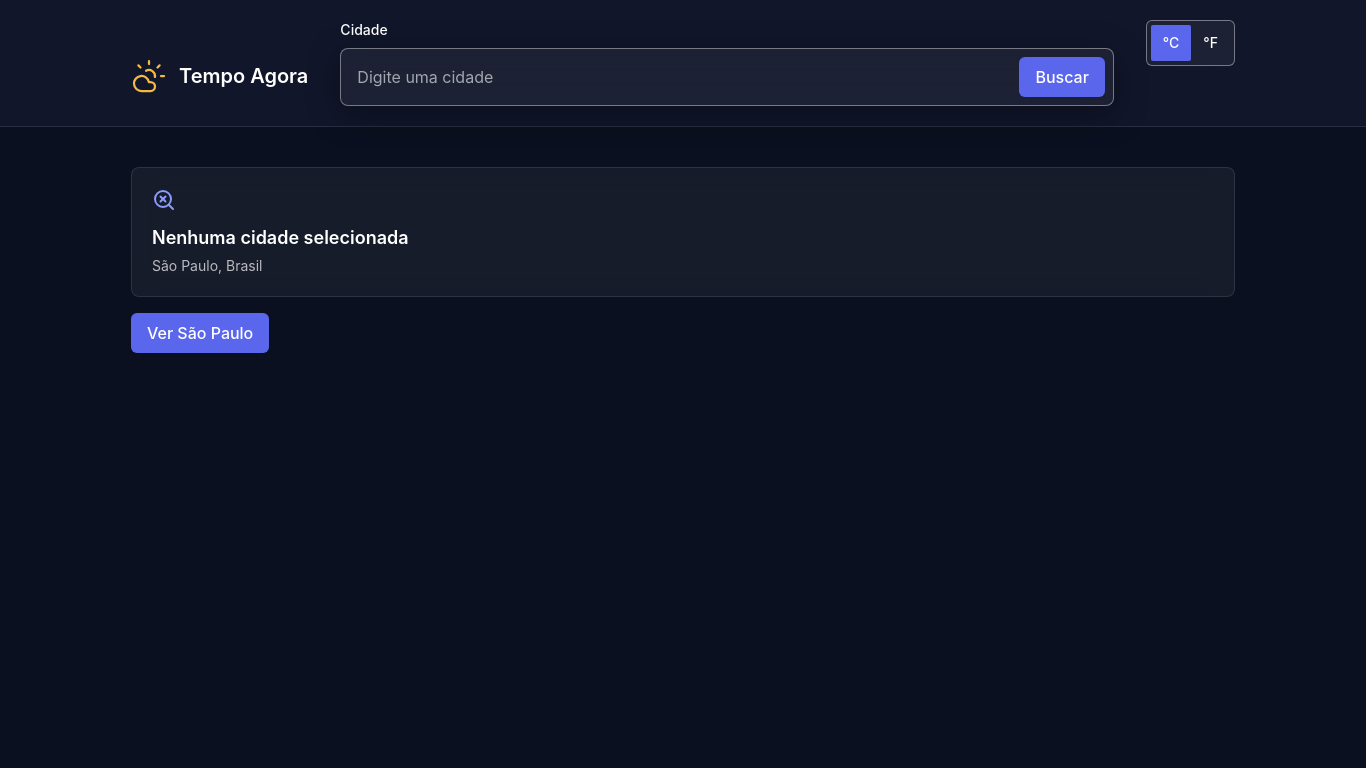
Test case: App › mostra erro e repete a mesma consulta no retry
This screenshot has width=1366, height=768.
Click the button "Ver São Paulo" at (200, 333), box [131,313,269,353]
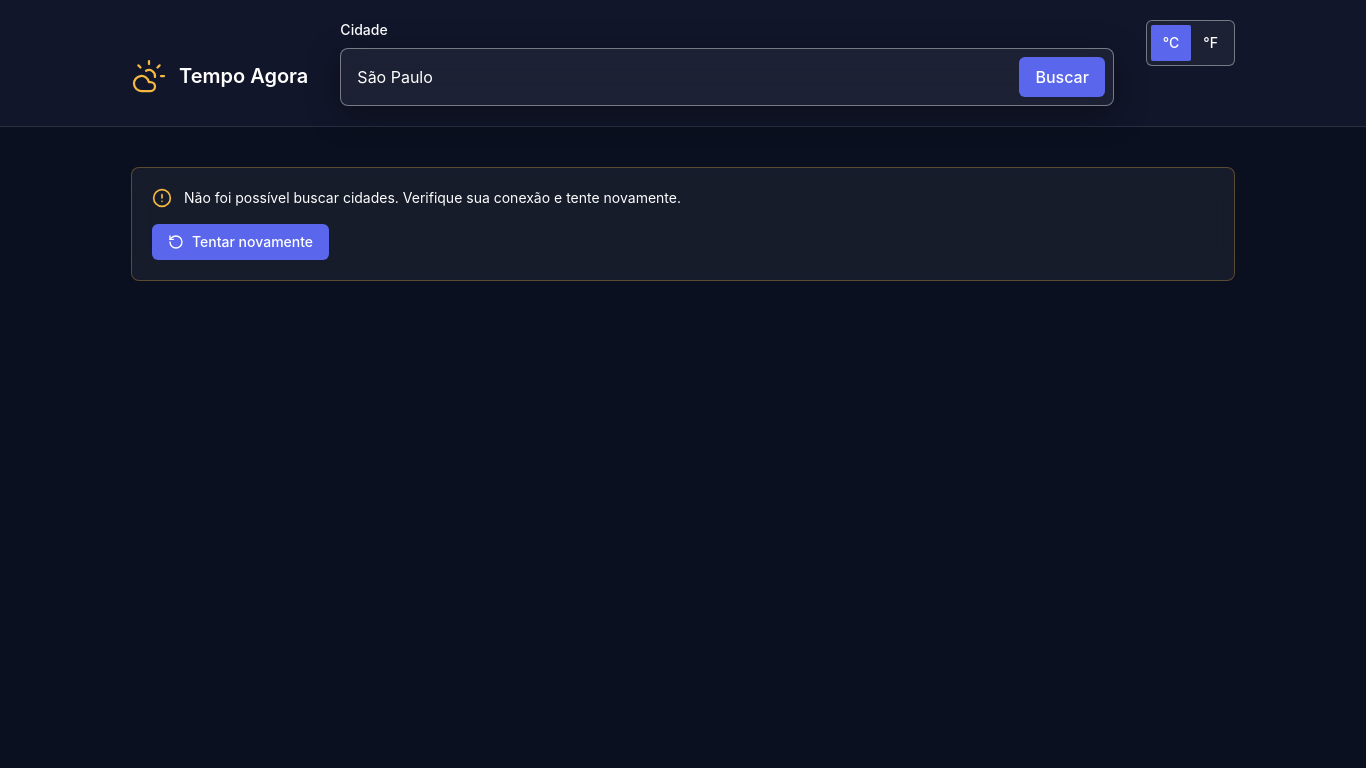
Result: the message shows "Não foi possível buscar cidades. Verifique sua conexão e tente novamente." at [184,189,681,206]
Click the button "Tentar novamente" at (241, 242), box [152,224,329,260]
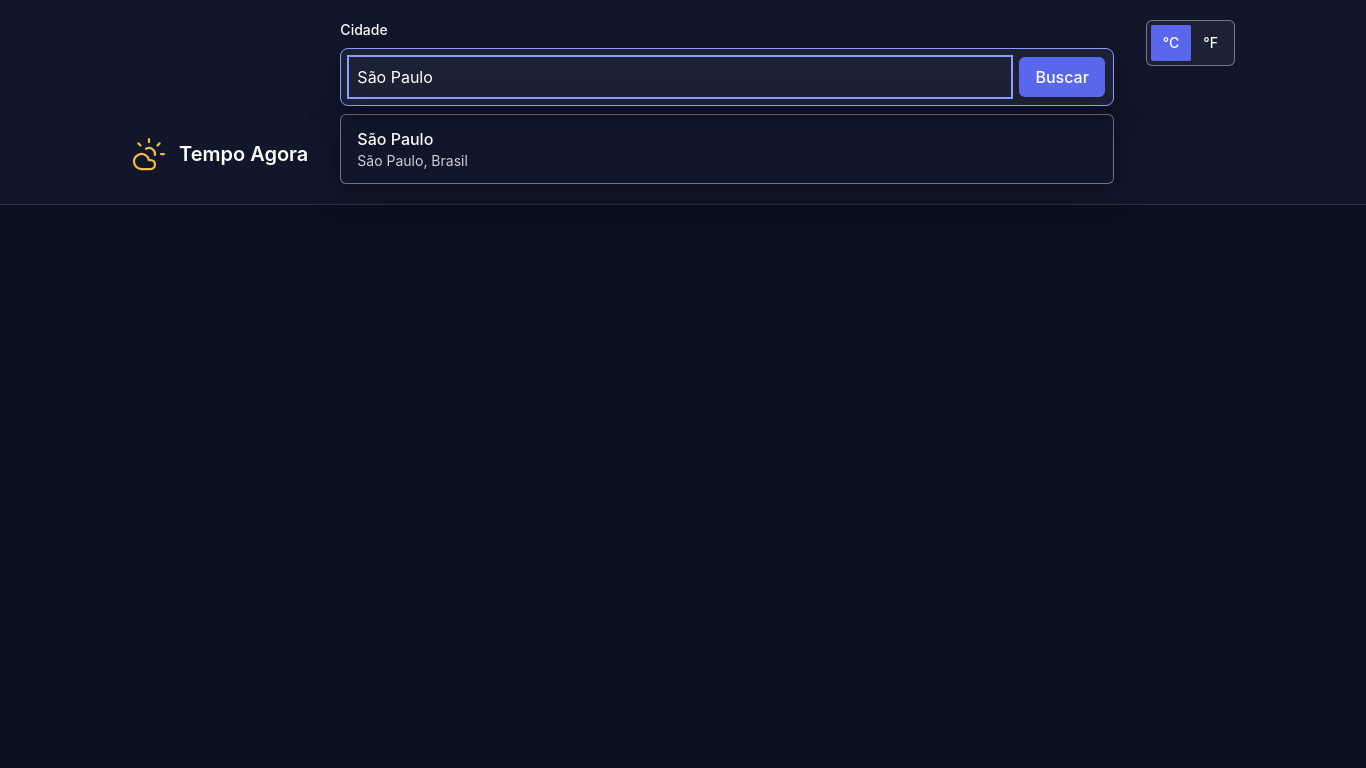
Click the option "São Paulo São Paulo, Brasil" at (395, 139), box [341,115,1113,183]
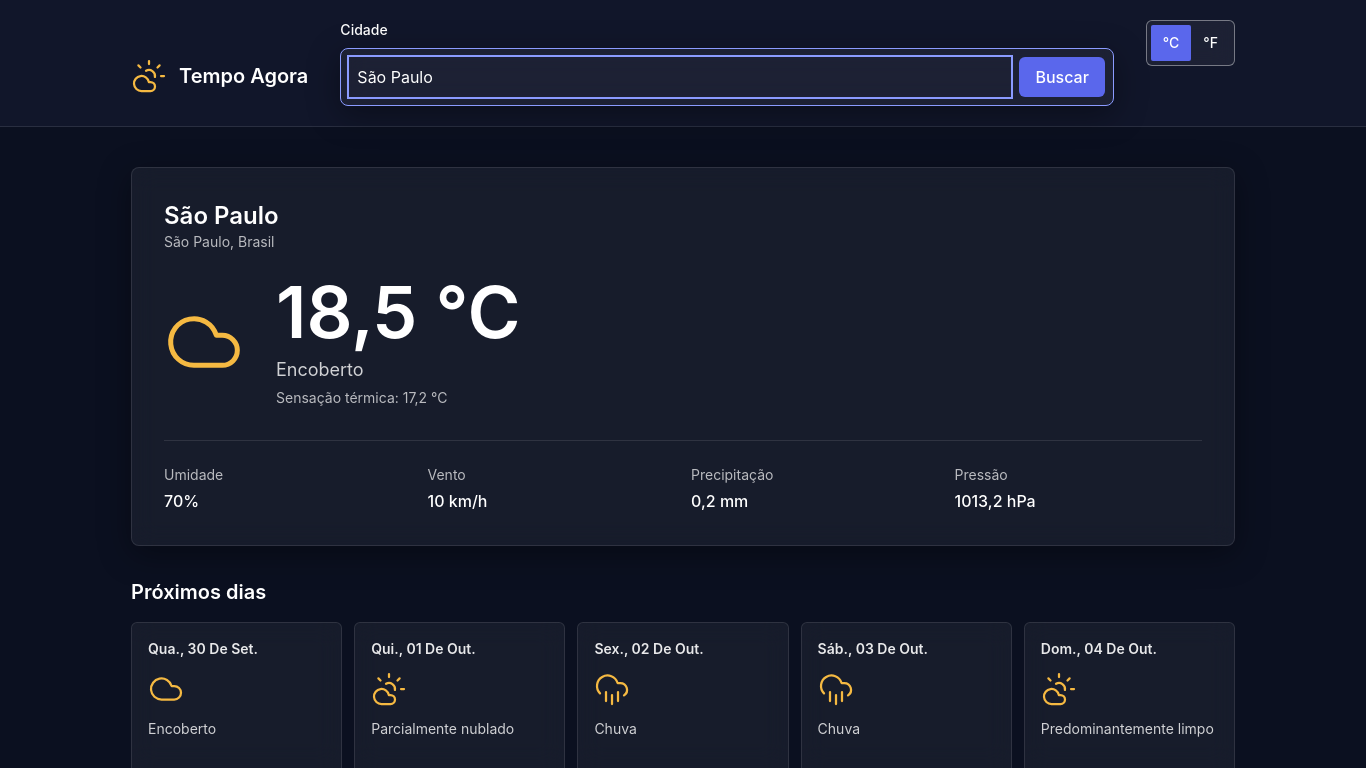
Result: the element named "Clima atual" is shown at [131,167,1235,546]
